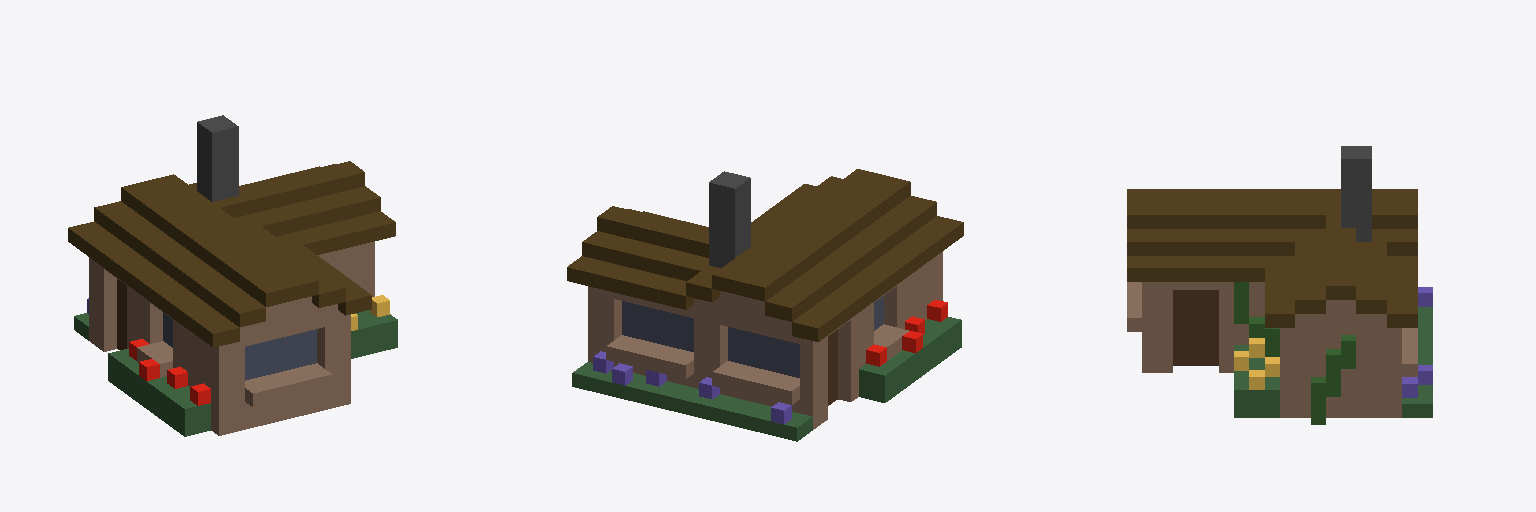
The picture shows the model from 3 angles: view 1: azimuth 30°, elevation 25°; view 2: azimuth 150°, elevation 25°; view 3: azimuth 270°, elevation 25°; orthographic projection.
Visible parts, largest first — view 1: object 1; view 2: object 1; view 3: object 1.
Boxes of the visible parts, x1,y1,x2,y2 form: object 1: [68, 115, 397, 436]; object 1: [567, 169, 963, 441]; object 1: [1127, 146, 1432, 424].
Bounding box in the file's own units: 2 × 1.5 × 2.
Materials: 1 (1 with a texture image).